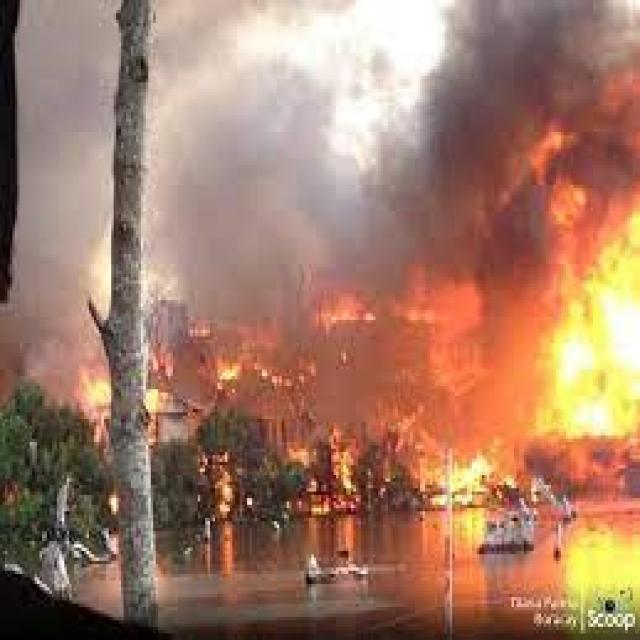Fire: (321, 424, 581, 530), (568, 277, 640, 485)
Smoke: (220, 0, 638, 287), (20, 0, 94, 393)
